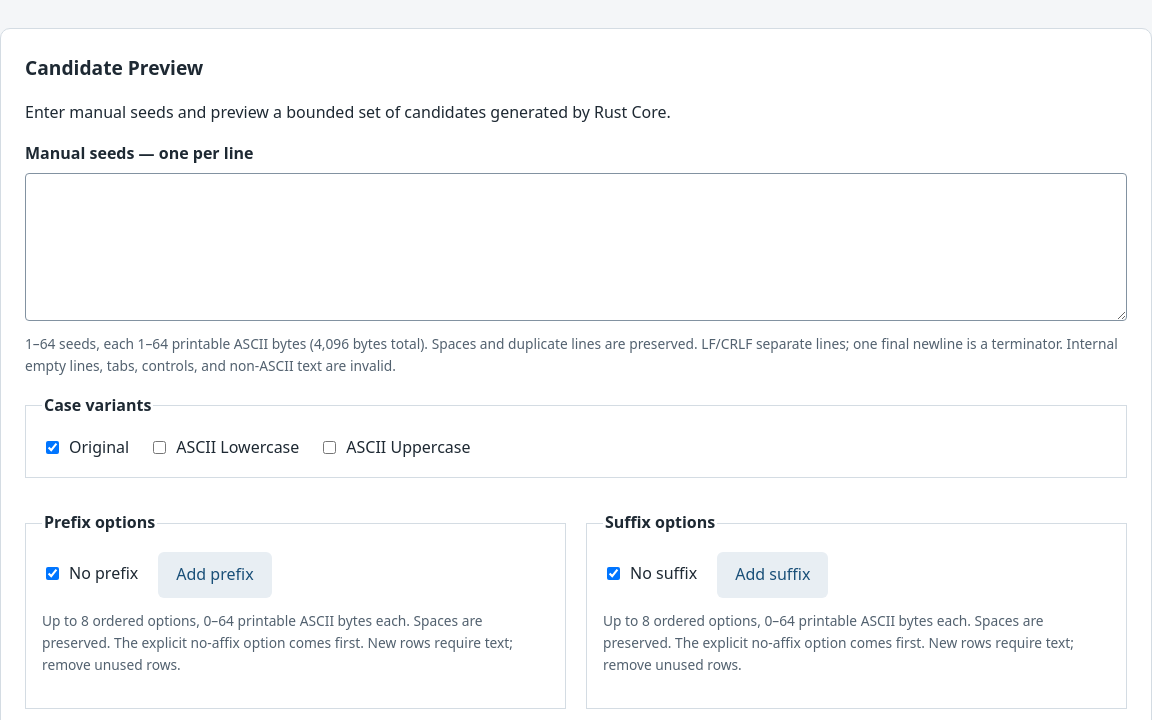
Test: Composition lifetime and canonical Preview payloads › does not submit a cleared seed after a delayed compositionEnd
The image size is (1152, 720).
In the text box labelled "Manual seeds — one per line": (576, 247) [25, 173, 1127, 321], type "accepted"
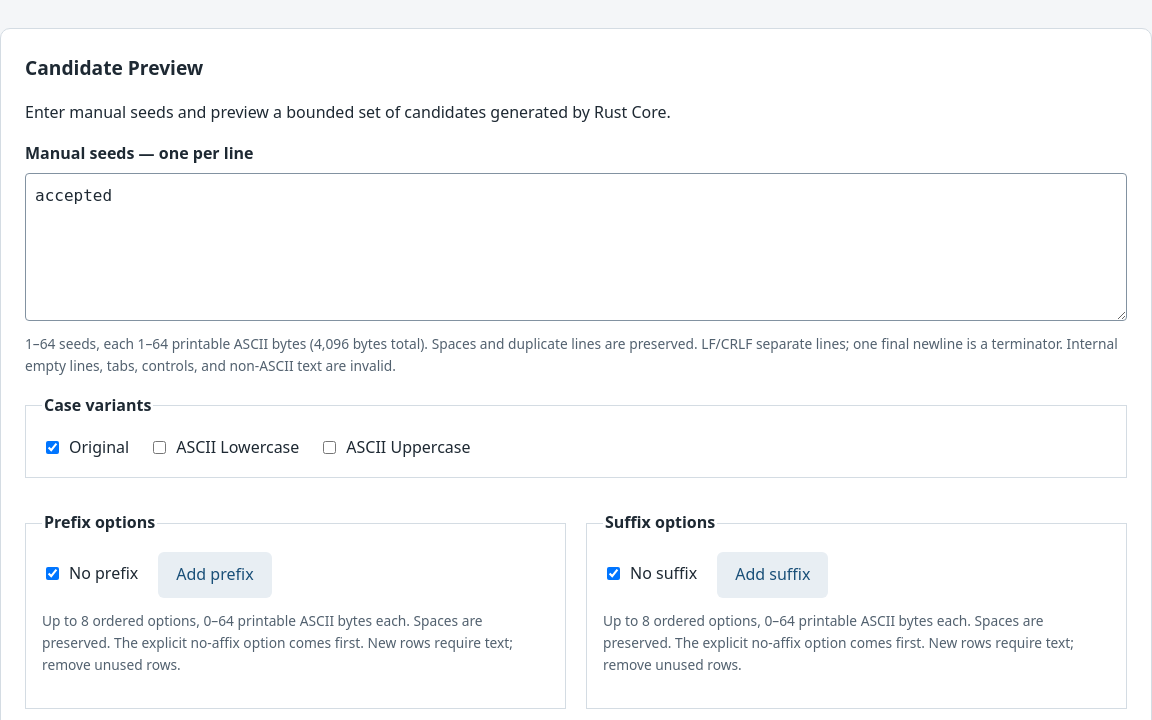
Replace the text in the text box labelled "Manual seeds — one per line" with "intermediate": (576, 247) [25, 173, 1127, 321]
(page scrolled)
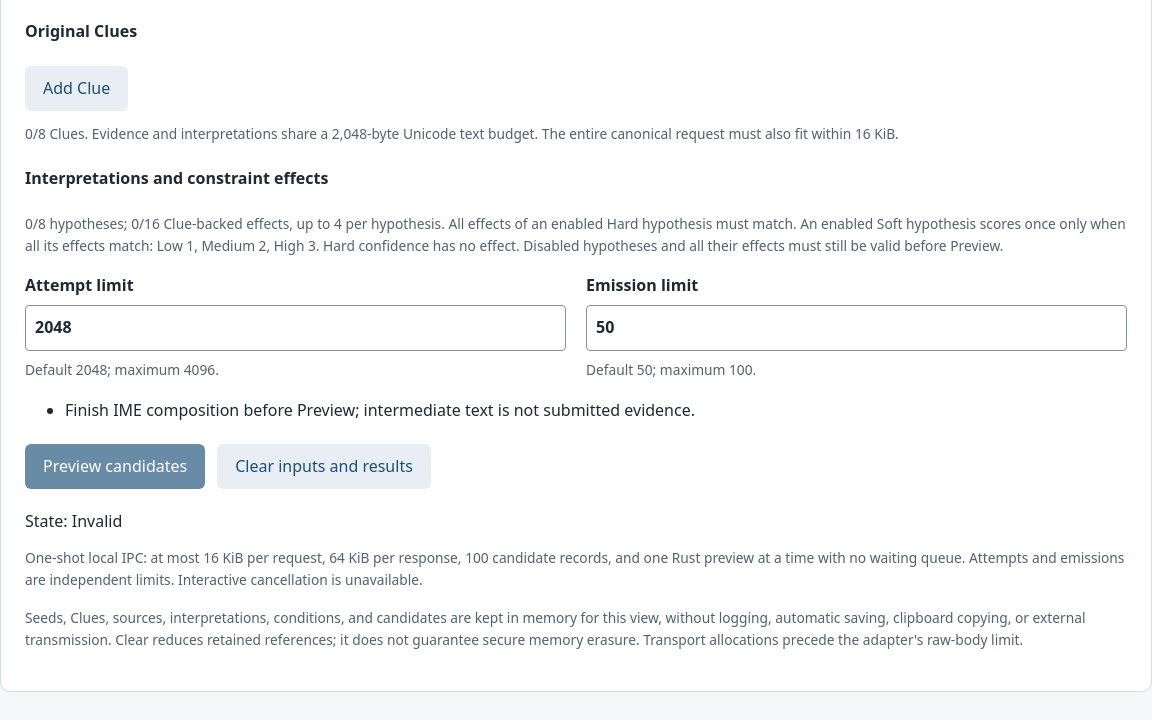
Click the button "Clear inputs and results": click(324, 466) [217, 444, 431, 489]
(page scrolled)
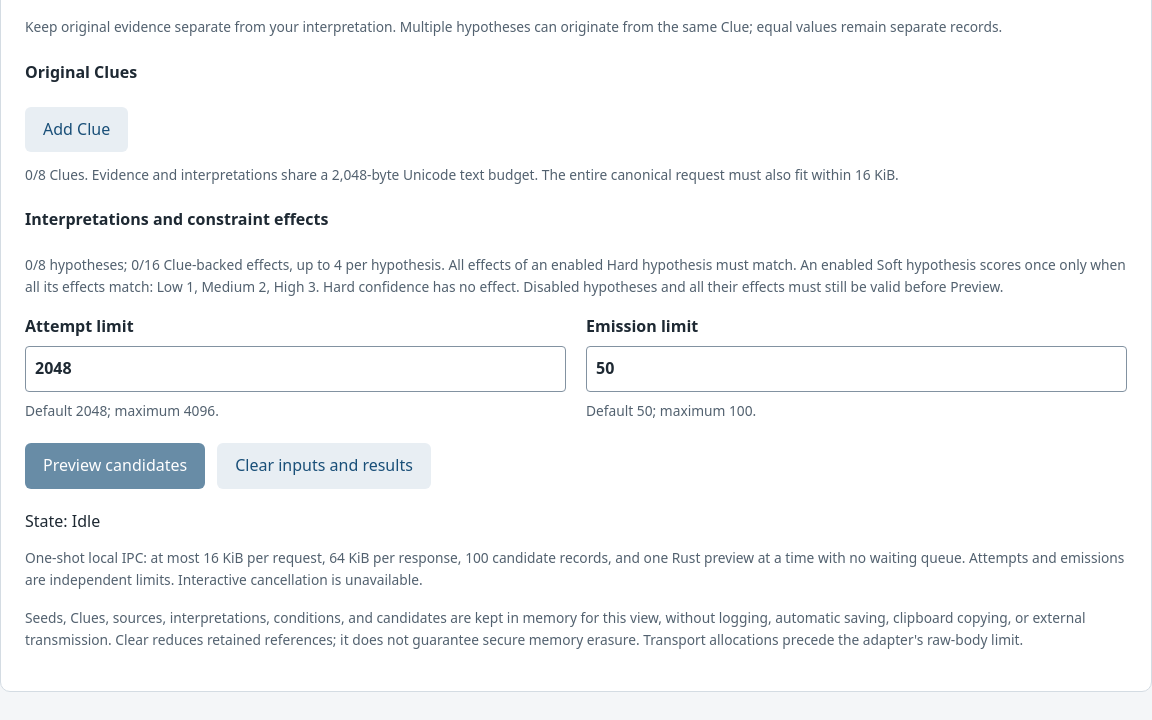
Click the button "Preview candidates": click(115, 466) [25, 443, 205, 489]
(page scrolled)
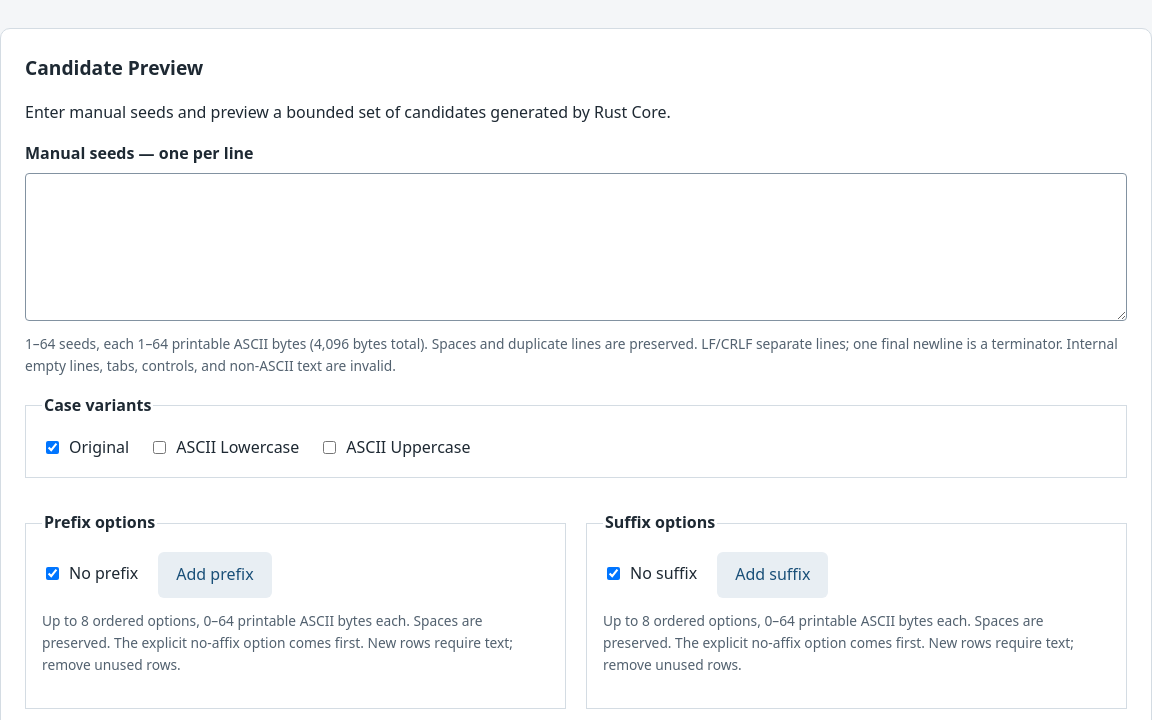
Check: the text box labelled "Manual seeds — one per line" is empty
In the text box labelled "Manual seeds — one per line": (576, 247) [25, 173, 1127, 321], type "fresh"
(page scrolled)
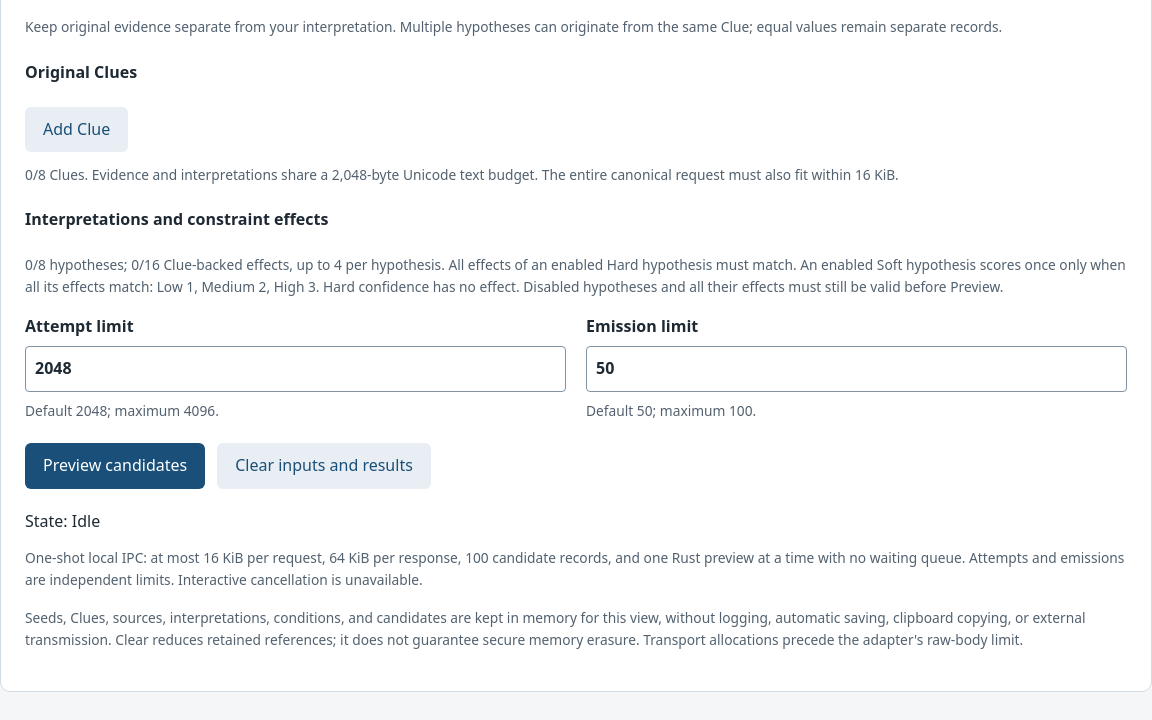
Click the button "Preview candidates": click(115, 466) [25, 443, 205, 489]
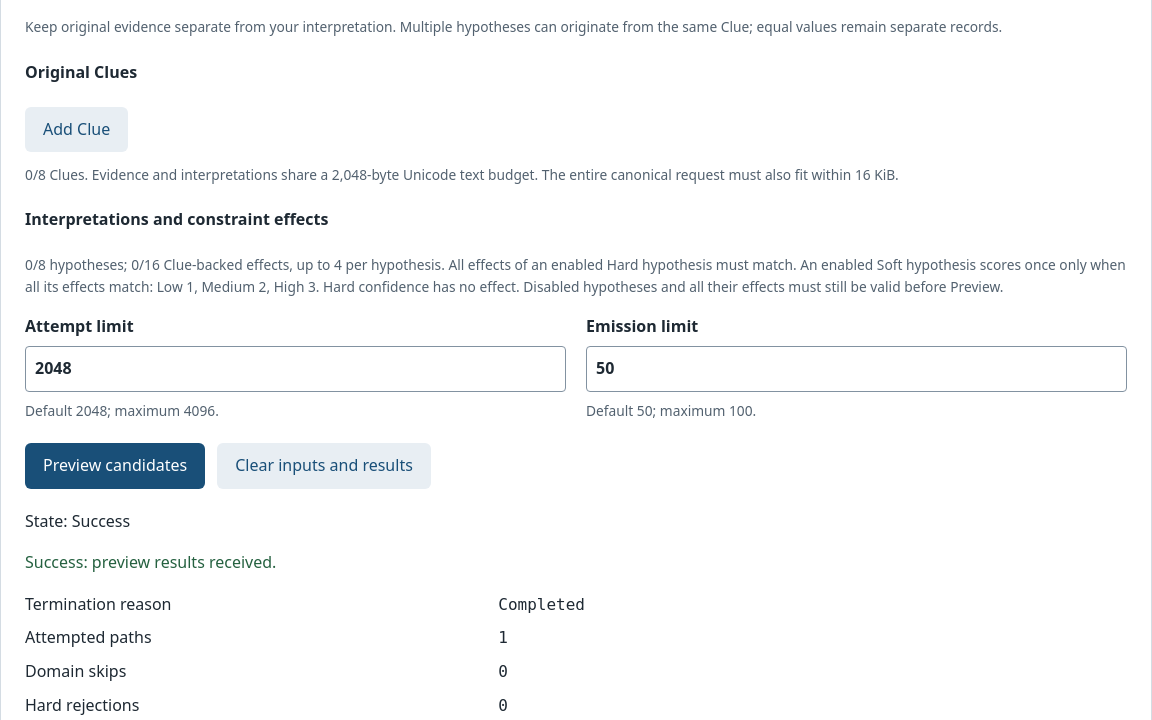
Check: the text "Success: preview results received." is shown, box [25, 551, 276, 573]
